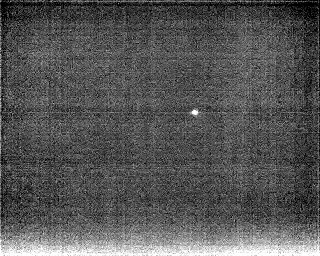AIRPLANE: (189, 107, 201, 118)
